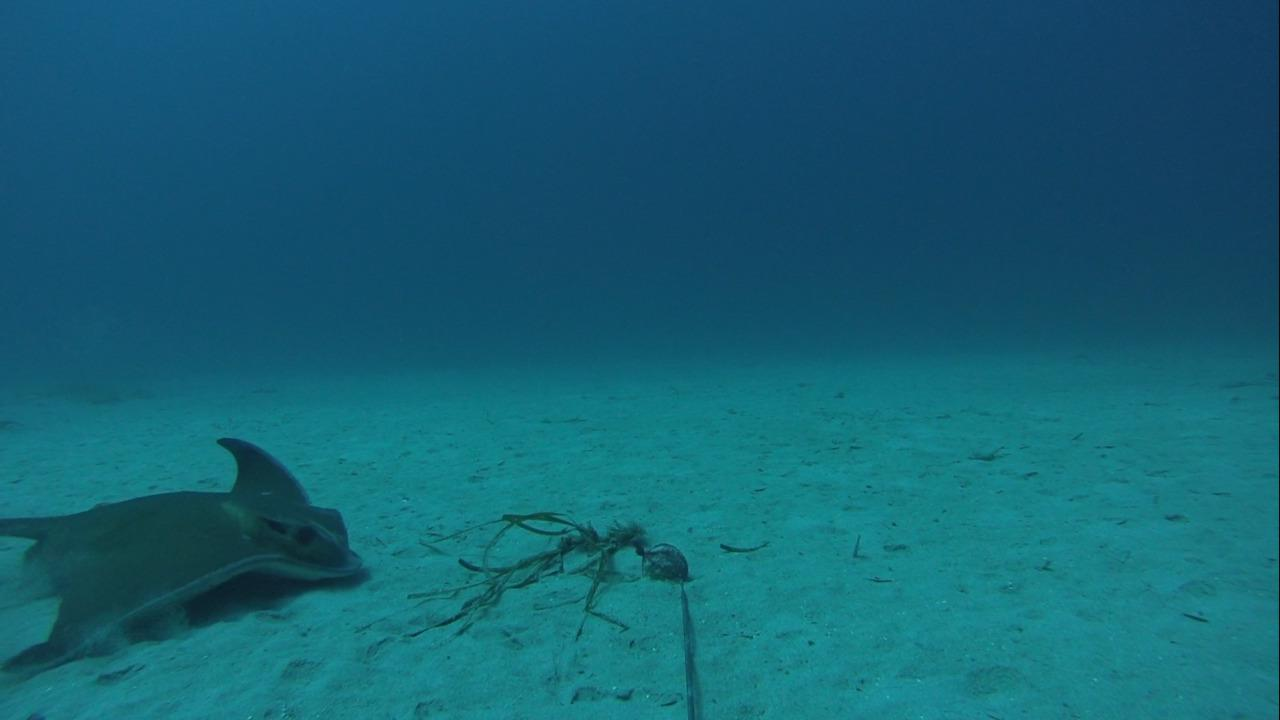myliobatis: (4, 433, 370, 684)
